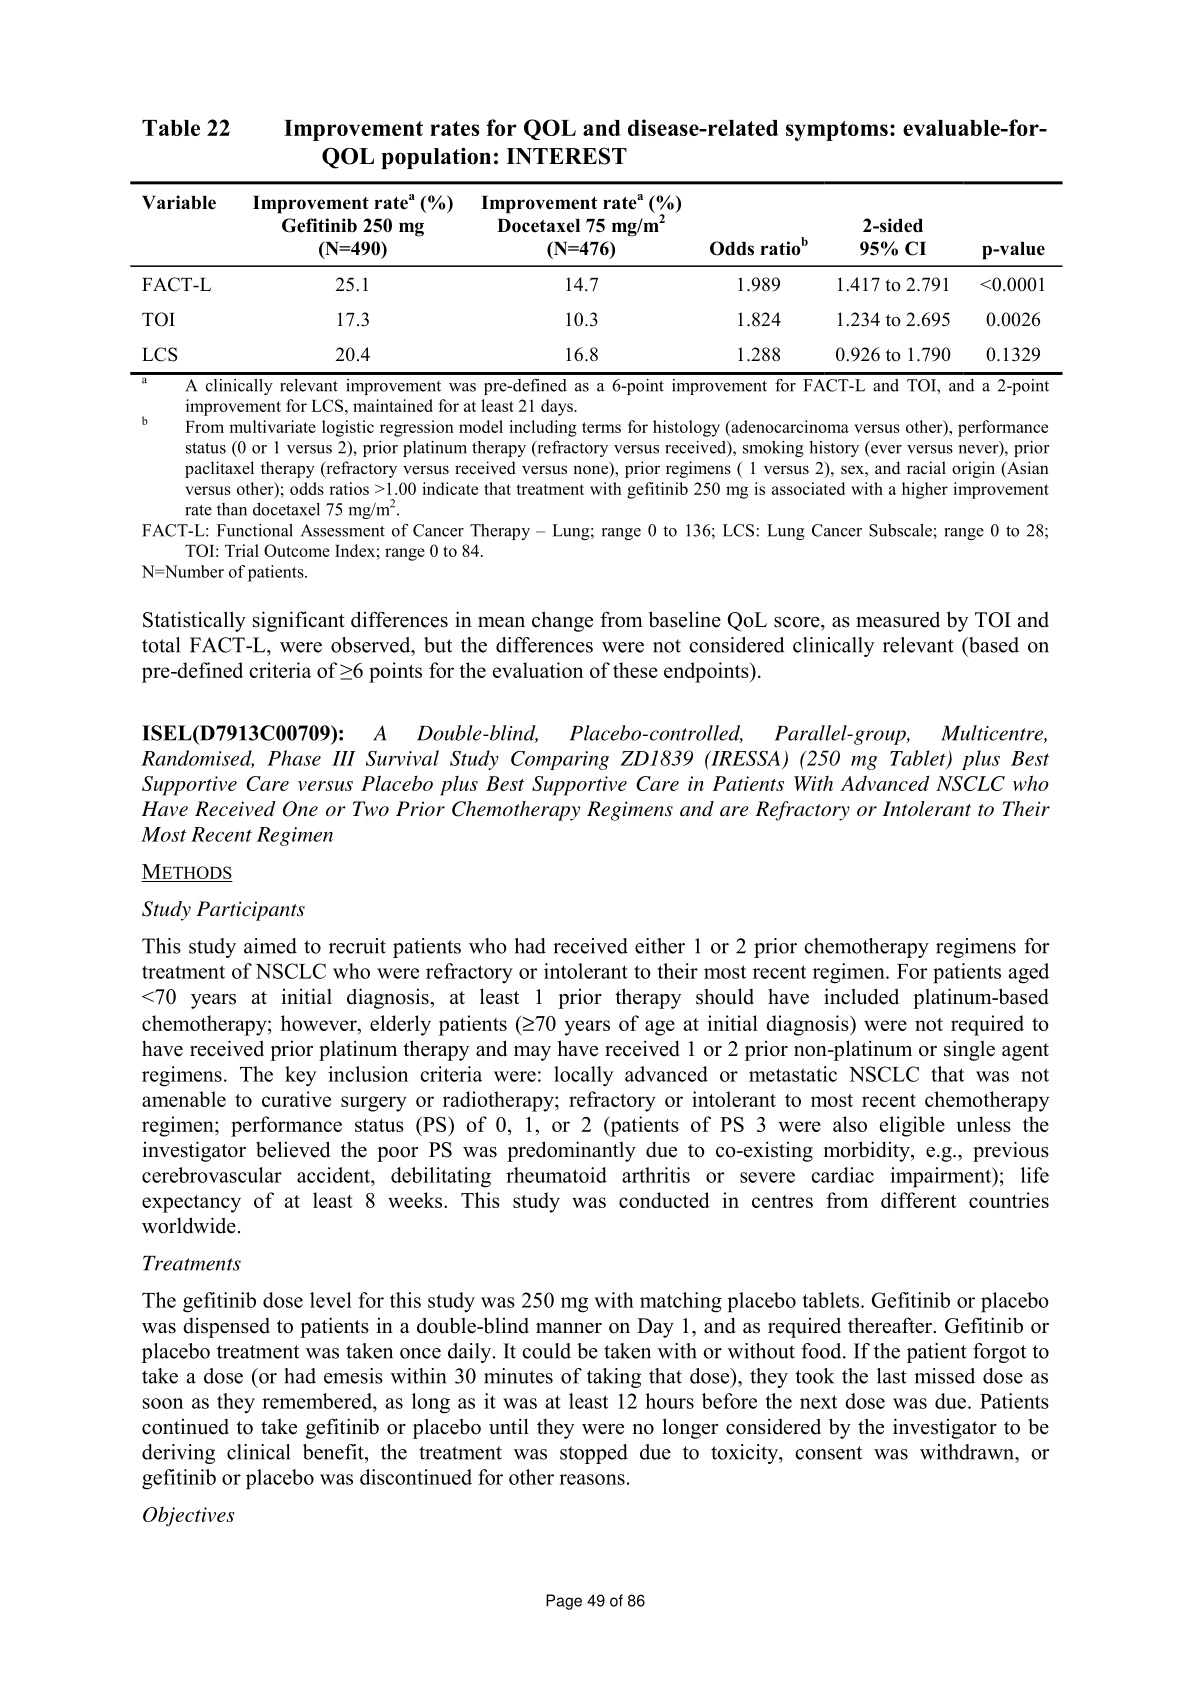partial_lined: (129, 179, 1064, 375)
